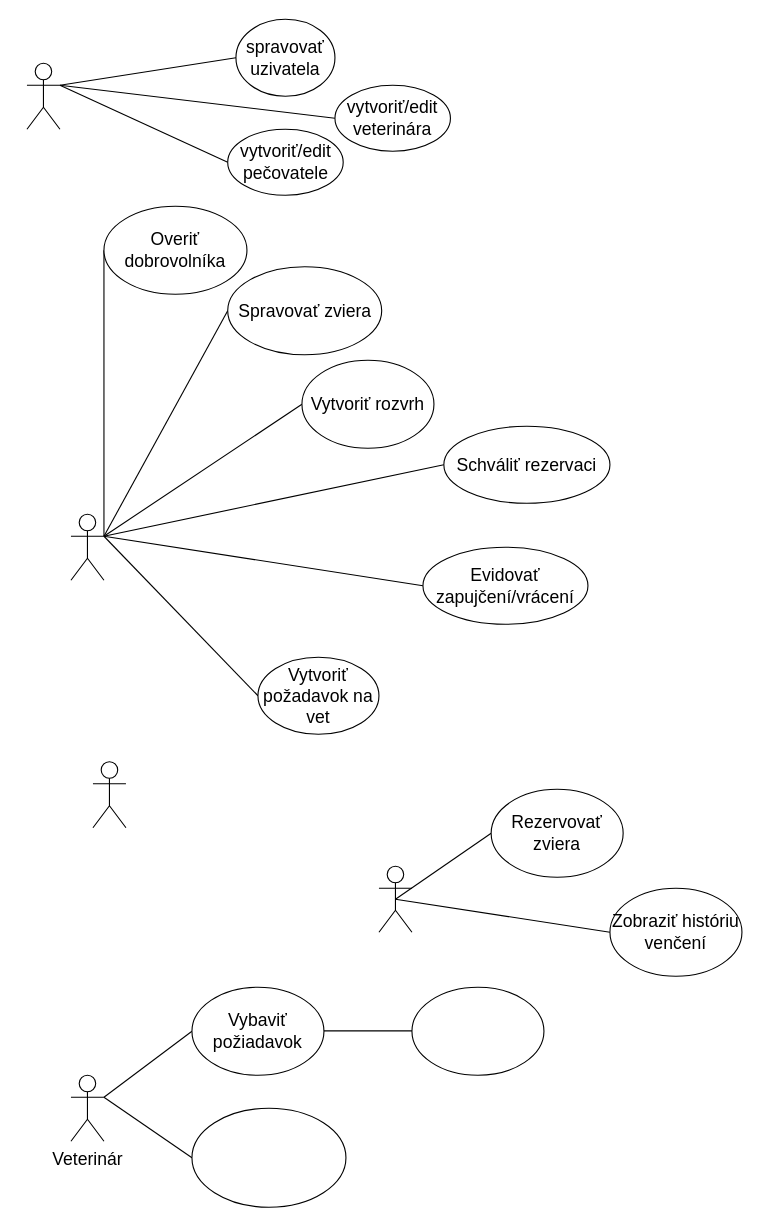
This 761x1227 diagram has some shape labels left out. The centre of each missing label's shape, as x and y in pixels:
Admin: point (43, 95)
Dobrovoľník: point (395, 898)
Nereg. uživatel: point (109, 794)
Pečovatel: point (87, 546)
Upraviť zdravotný stav: point (268, 1157)
Vytvoriť prehliadku: point (477, 1030)
